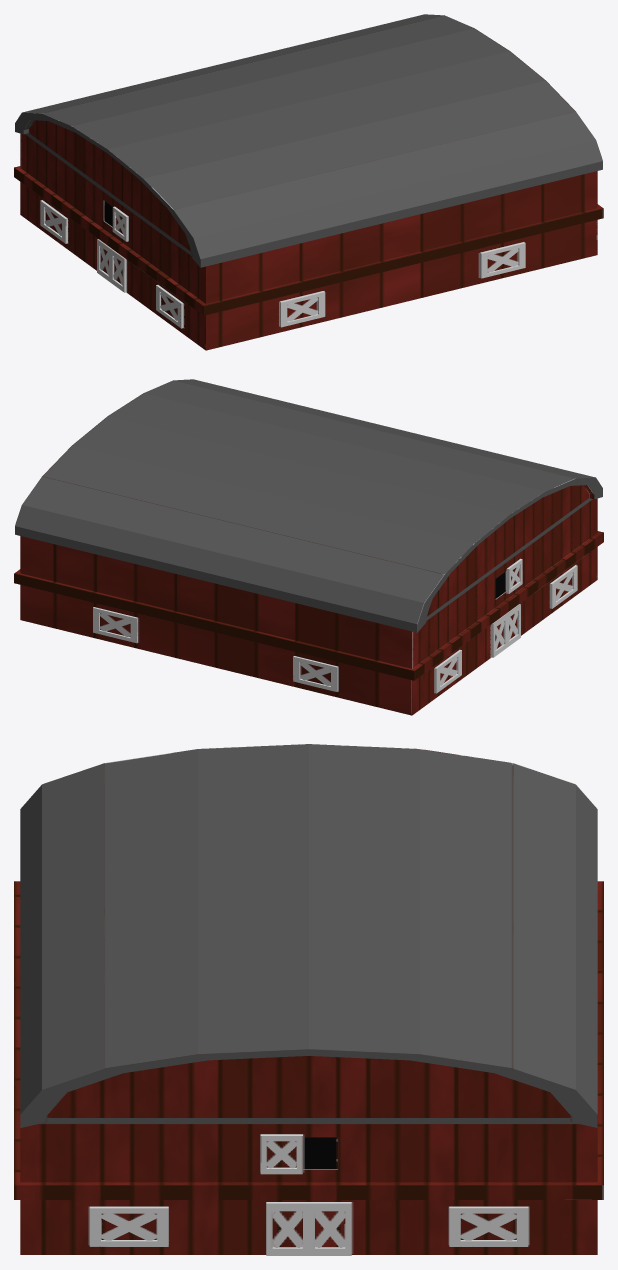
Rendered from Barn.fbx.
The picture shows the model from 3 angles, top to bottom: view 1: azimuth 30°, elevation 25°; view 2: azimuth 150°, elevation 25°; view 3: azimuth 270°, elevation 25°; orthographic projection. The views are drawn at different scales.
Parts seen in each view (by area): view 1: BakedBarn; view 2: BakedBarn; view 3: BakedBarn.
Boxes of the visible parts, <box> form: BakedBarn: <box>14,14,603,350</box>; BakedBarn: <box>14,379,603,715</box>; BakedBarn: <box>14,744,603,1255</box>.
Bounding box in the file's own units: 4007 × 1280 × 3269.
